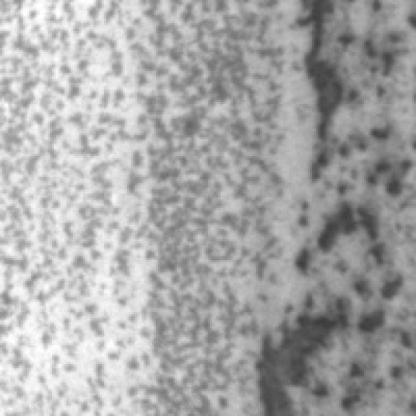patches: (252, 314, 337, 414)
pitted_surface: (0, 0, 258, 410), (272, 0, 414, 404)
